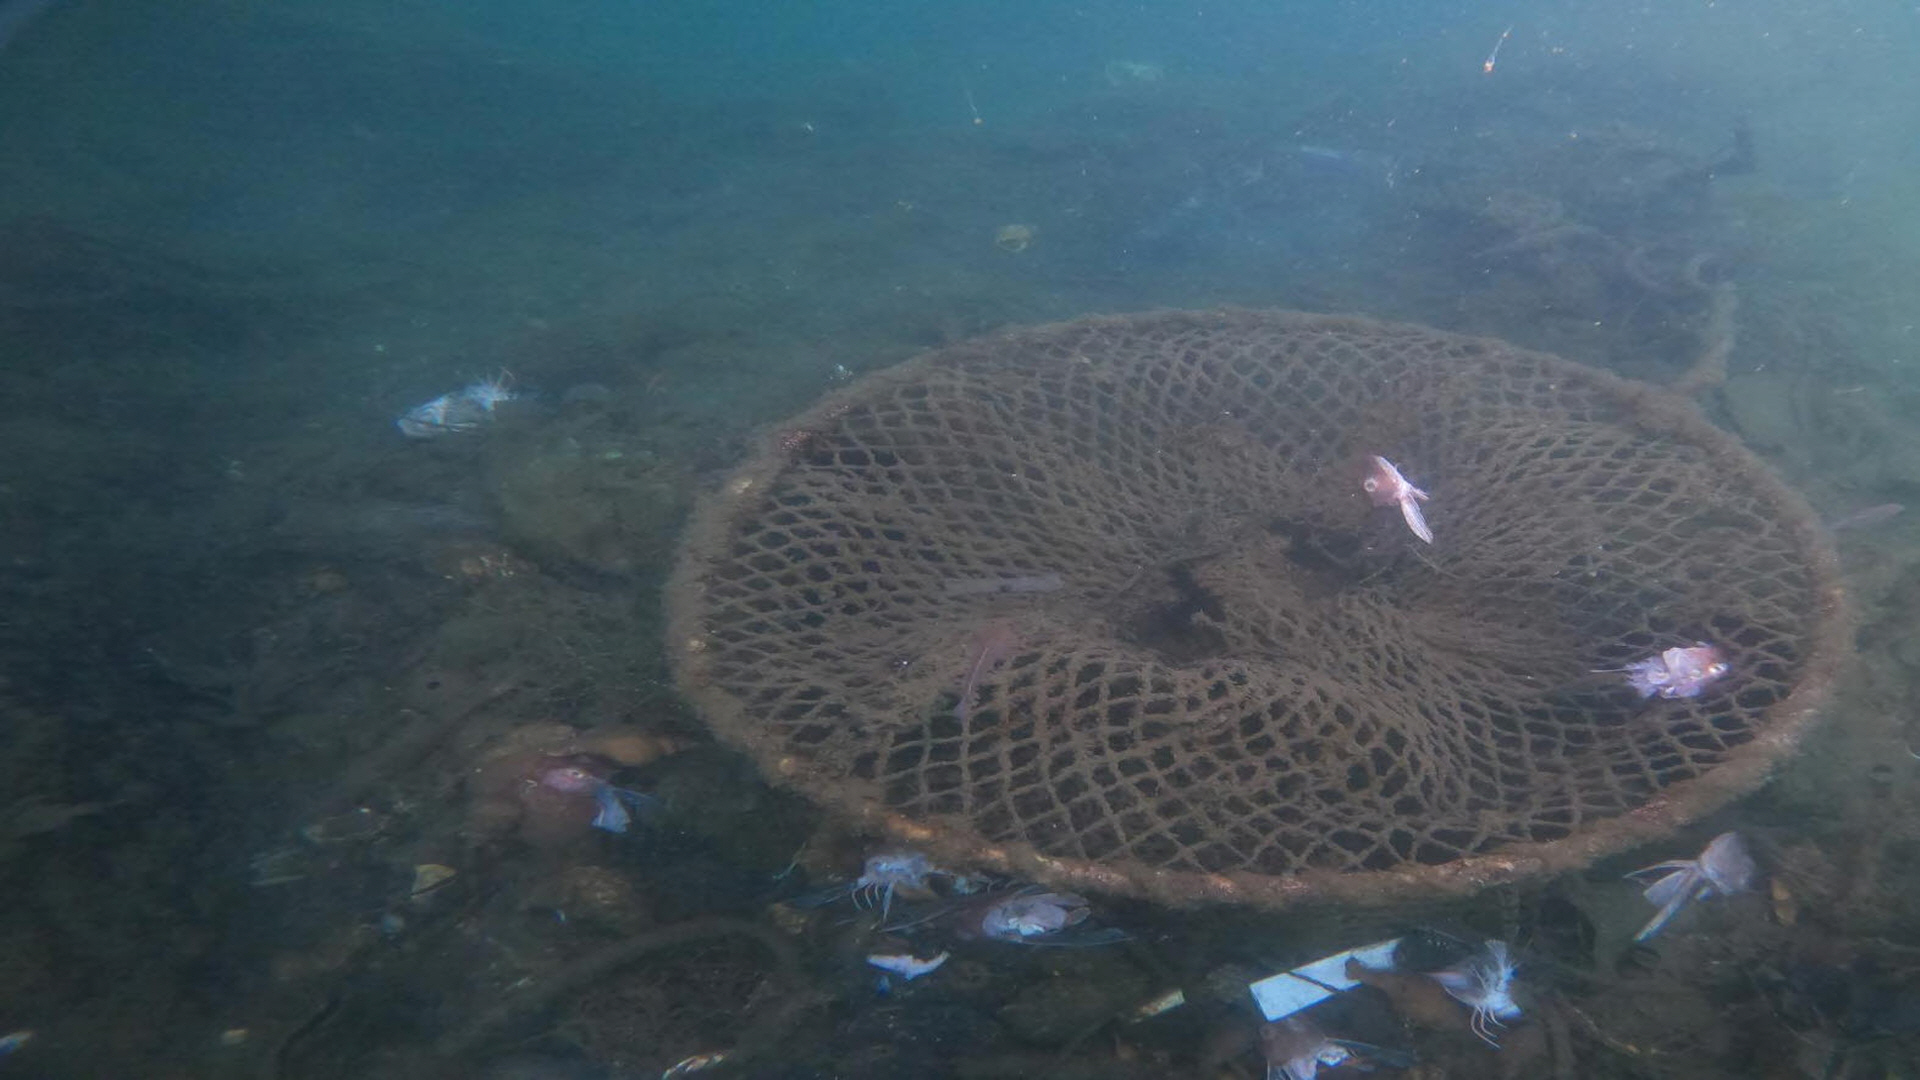circular fish trap: (657, 302, 1859, 913)
